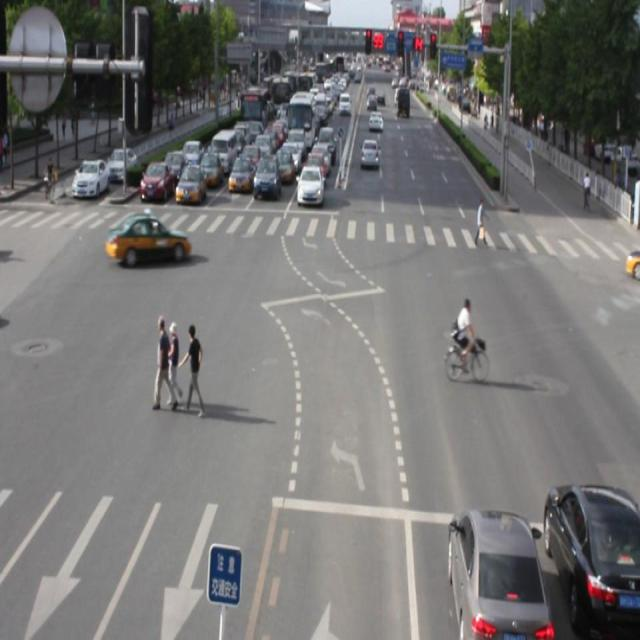car: (542, 487, 640, 640), (446, 513, 544, 640), (106, 214, 192, 266)
